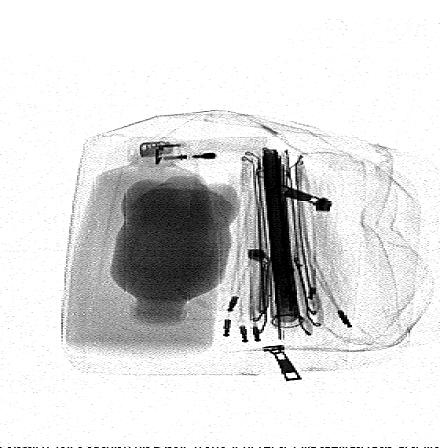Lighter: (138, 136, 270, 166)
